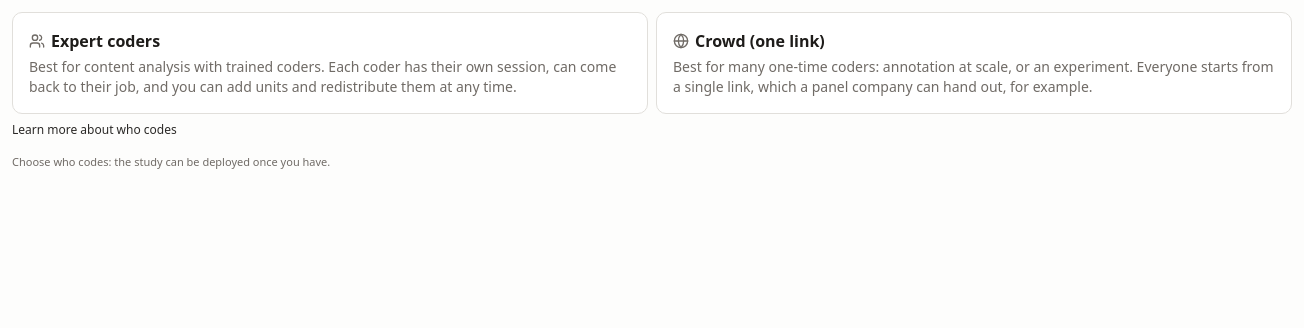
Test: the invitation form › a new design has no invitation: two cards to choose from, and no options yet
The width and height of the screenshot is (1304, 328).
Check: the text "Choose who codes: the study can be deployed once you have." is shown, box [12,154,330,169]
Check: the field labelled "A link per coder" is not shown
Click the radio button labelled "Expert coders" at (330, 63), box [12,12,648,114]
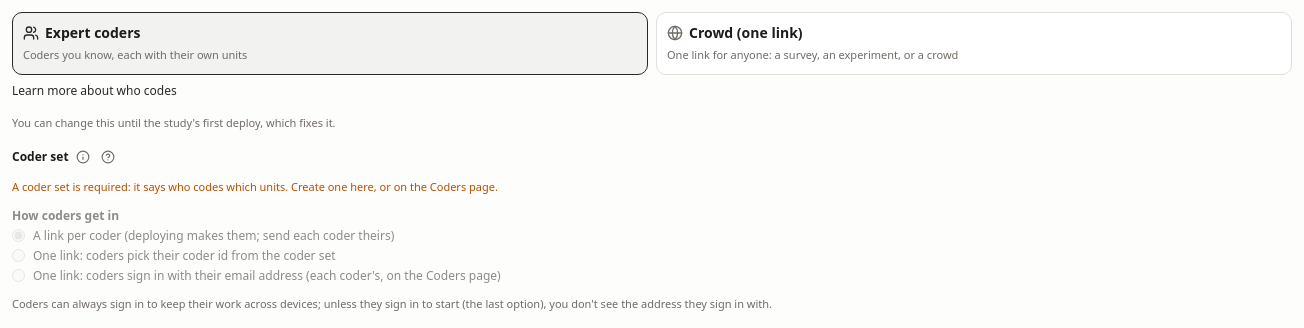
Check: the radio button labelled "Expert coders Coders you know, each with their own units" is checked, box [12,12,648,74]
